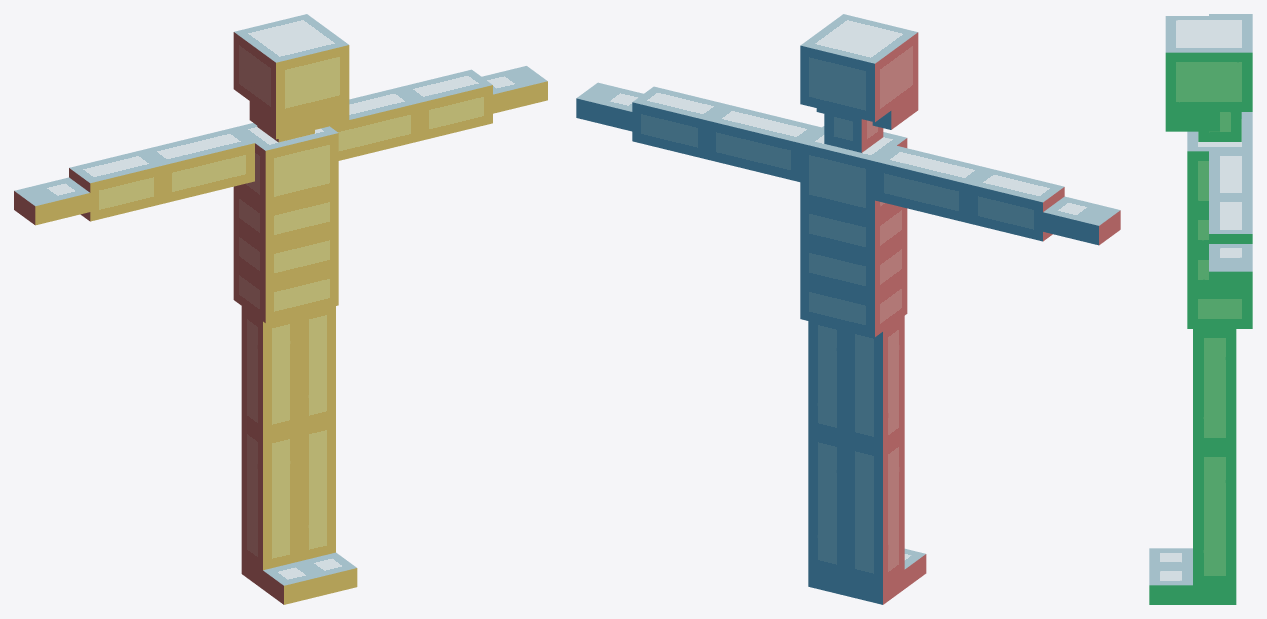
File: character_nodes.gltf
3 renders of one model, left to right at view 1: azimuth 30°, elevation 25°; view 2: azimuth 150°, elevation 25°; view 3: azimuth 270°, elevation 25°, orthographic. The views are drawn at different scales.
Visible parts, largest first — view 1: head_skull_skin, right_knee_skin, right_leg_skin, torso_upper_chest_skin, right_arm_upper_skin, left_knee_skin, right_arm_lower_skin, left_arm_upper_skin, left_arm_lower_skin, left_leg_skin, torso_hip_skin, torso_spine_skin (+8 smaller); view 2: head_skull_skin, right_knee_skin, right_leg_skin, torso_upper_chest_skin, left_arm_upper_skin, right_arm_upper_skin, left_knee_skin, right_arm_lower_skin, left_arm_lower_skin, torso_hip_skin, torso_spine_skin, torso_chest_skin (+9 smaller); view 3: head_skull_skin, left_knee_skin, left_leg_skin, torso_hip_skin, torso_upper_chest_skin, left_arm_lower_skin, left_arm_upper_skin, left_feet_skin, left_knuckles_skin, head_jaw_skin, torso_neck_skin, torso_spine_skin (+4 smaller).
Boxes of the visible parts, x1,y1,x2,y2 form: head_skull_skin: [233, 14, 349, 120]; right_knee_skin: [241, 421, 299, 570]; right_leg_skin: [241, 306, 299, 435]; torso_upper_chest_skin: [234, 123, 338, 208]; right_arm_upper_skin: [143, 127, 254, 203]; left_knee_skin: [299, 418, 335, 561]; right_arm_lower_skin: [69, 150, 163, 221]; left_arm_upper_skin: [330, 87, 419, 160]; left_arm_lower_skin: [399, 69, 492, 140]; left_leg_skin: [299, 306, 335, 427]; torso_hip_skin: [233, 262, 338, 323]; torso_spine_skin: [233, 223, 338, 284]; head_skull_skin: [800, 14, 918, 122]; right_knee_skin: [845, 433, 904, 585]; right_leg_skin: [845, 316, 904, 448]; torso_upper_chest_skin: [800, 126, 907, 219]; left_arm_upper_skin: [707, 104, 821, 181]; right_arm_upper_skin: [875, 145, 989, 222]; left_knee_skin: [808, 430, 845, 576]; right_arm_lower_skin: [968, 168, 1064, 241]; left_arm_lower_skin: [632, 86, 727, 159]; torso_hip_skin: [800, 275, 907, 337]; torso_spine_skin: [800, 236, 907, 297]; torso_chest_skin: [800, 202, 907, 258]; head_skull_skin: [1165, 16, 1252, 111]; left_knee_skin: [1193, 447, 1236, 585]; left_leg_skin: [1193, 329, 1236, 447]; torso_hip_skin: [1187, 289, 1252, 328]; torso_upper_chest_skin: [1187, 114, 1252, 210]; left_arm_lower_skin: [1209, 197, 1252, 243]; left_arm_upper_skin: [1209, 151, 1252, 197]; left_feet_skin: [1149, 567, 1192, 604]; left_knuckles_skin: [1209, 262, 1252, 291]; head_jaw_skin: [1165, 112, 1219, 131]; torso_neck_skin: [1198, 112, 1241, 141]; torso_spine_skin: [1187, 250, 1208, 289].
Size of the model in its own units: 1.75 by 1.75 by 0.2969.
1 material, 1 textured.
